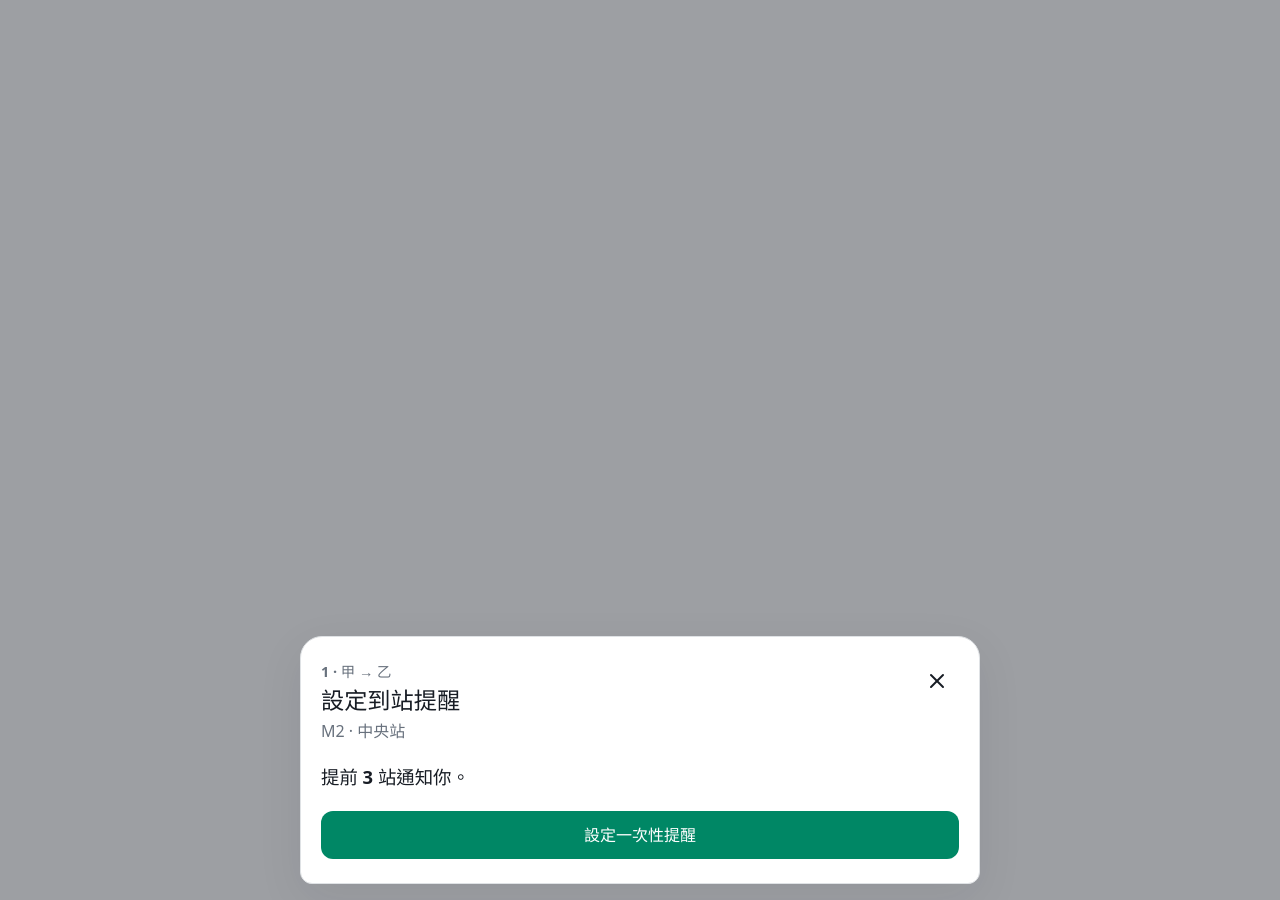
Test: ArrivalAlertSheet › shows the default lead count and creates a one-shot reminder
Check: the dialog "設定到站提醒" is shown, box [300,636,980,884]
Check: the text "提前 3 站" is shown, box [321,764,396,789]
Click the button "設定一次性提醒" at (640, 835), box [321,811,959,859]
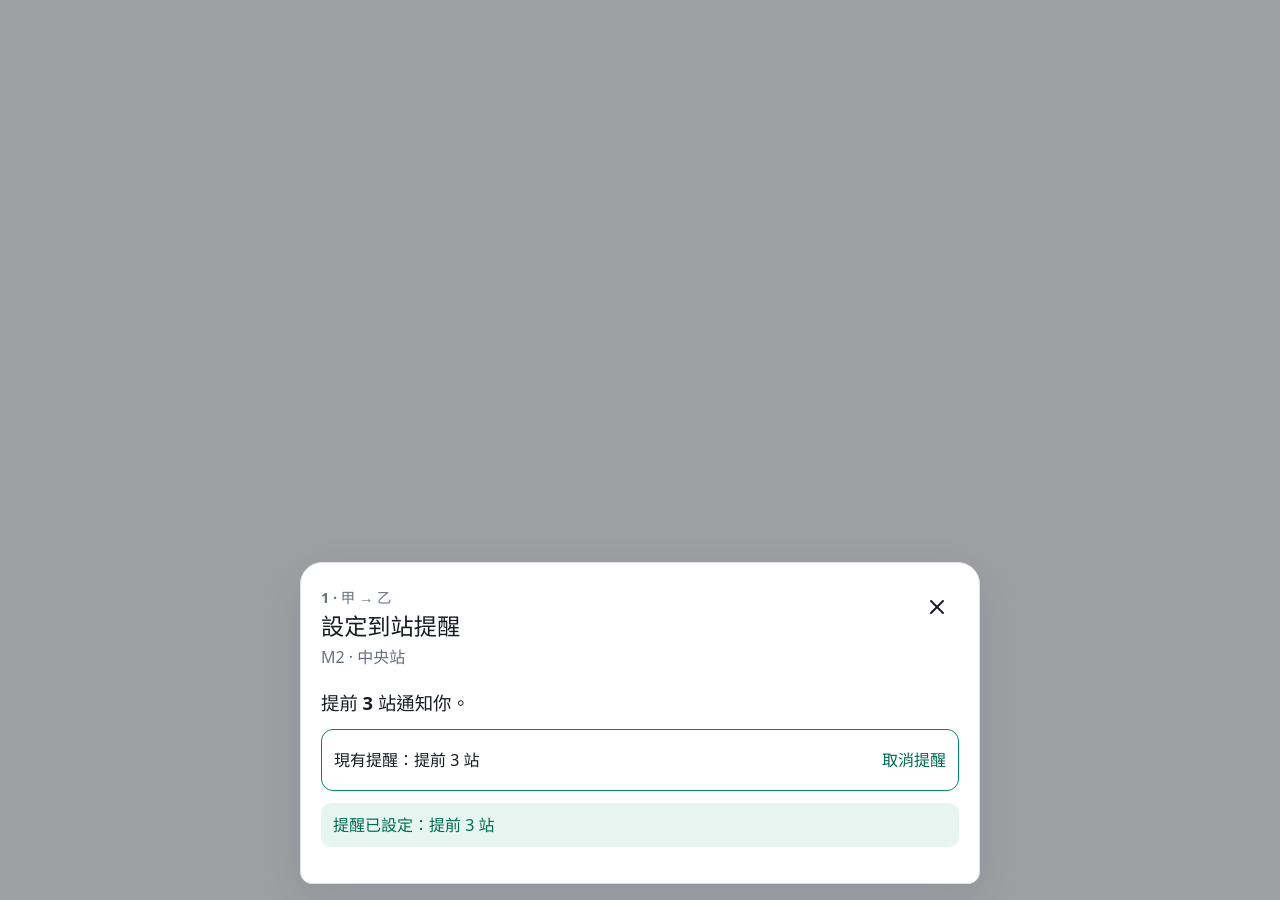
Check: the text "提醒已設定：提前 3 站" is shown, box [321,803,959,847]
